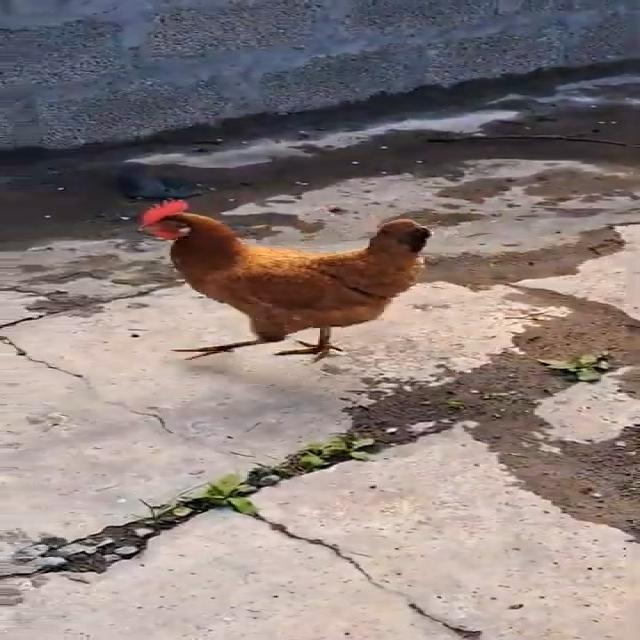walking: (103, 188, 448, 364)
